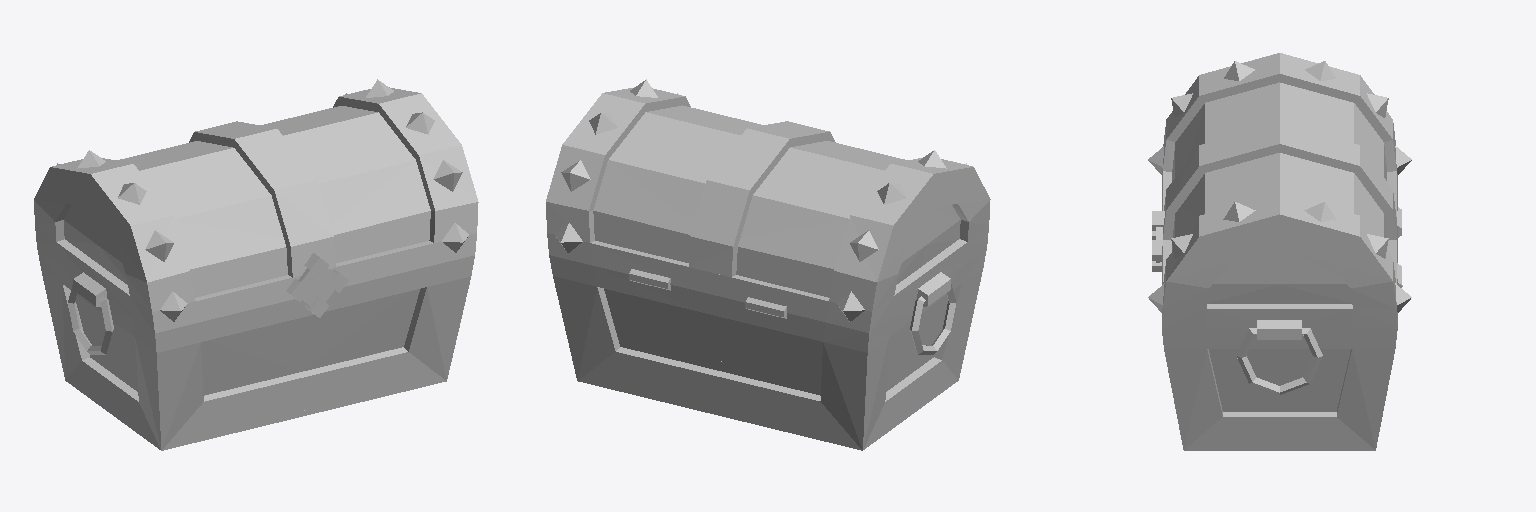
The model's file is chest.obj.
3 renders of one model, left to right at view 1: azimuth 30°, elevation 25°; view 2: azimuth 150°, elevation 25°; view 3: azimuth 270°, elevation 25°, orthographic.
Visible parts, largest first — view 1: Chest; view 2: Chest; view 3: Chest.
Boxes of the visible parts, box(x1,y1,x2,y2) form: Chest: box(34, 79, 478, 450); Chest: box(546, 79, 990, 450); Chest: box(1148, 53, 1411, 450).
Size of the model in its own units: 16.58 by 11.53 by 11.06.